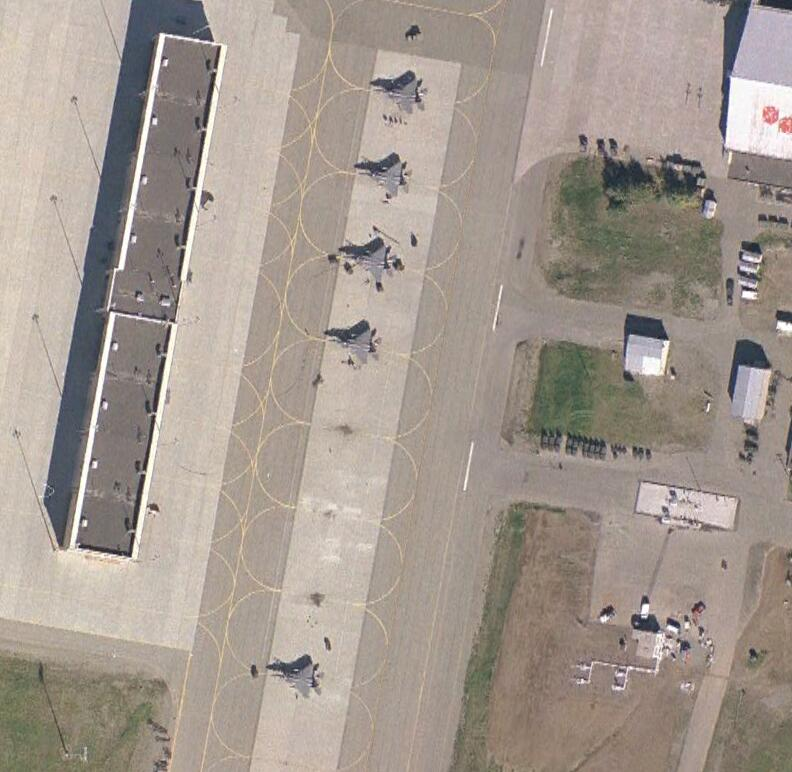A13: (266, 660, 328, 701), (337, 244, 401, 283), (356, 159, 415, 199), (322, 325, 384, 363), (371, 78, 429, 117)
